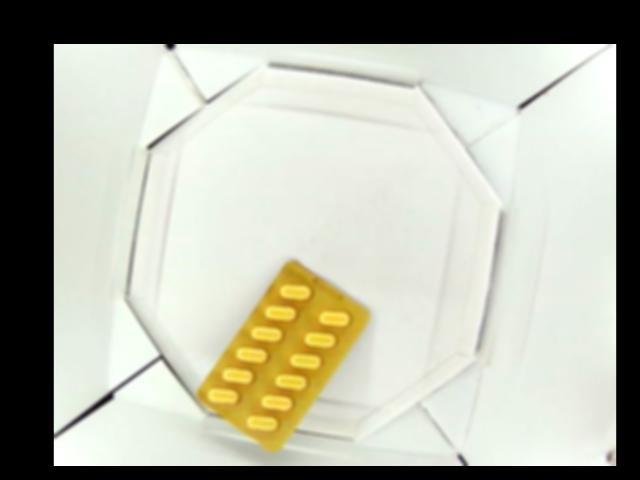Medicine: (197, 255, 370, 453)
